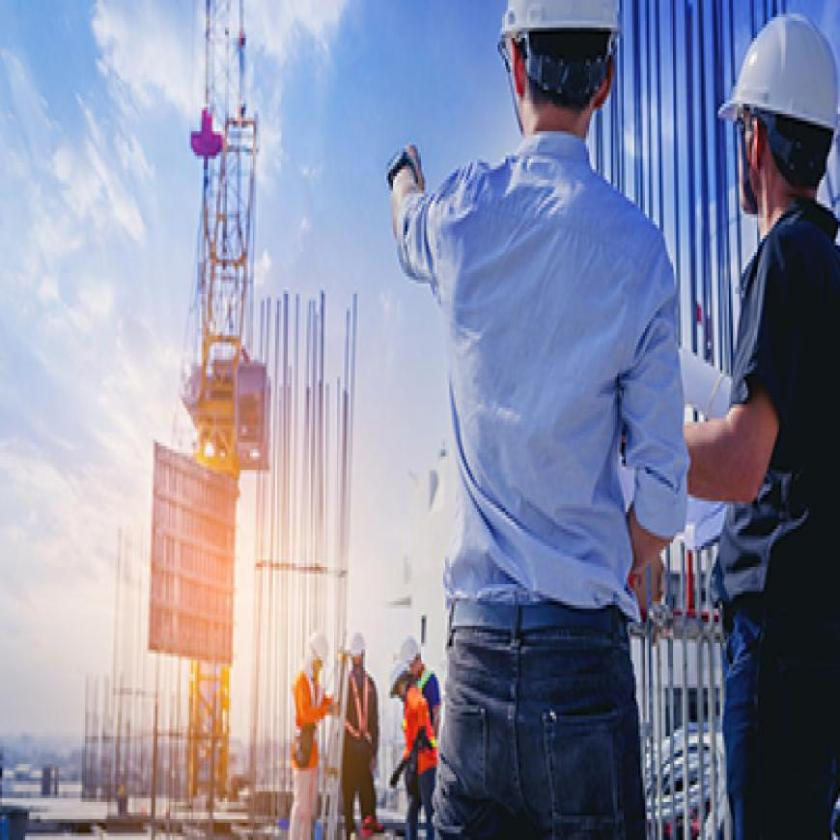Con_casco: (711, 12, 840, 246), (496, 0, 628, 147), (307, 634, 333, 672), (398, 636, 425, 672), (385, 663, 411, 697), (347, 634, 367, 676)
